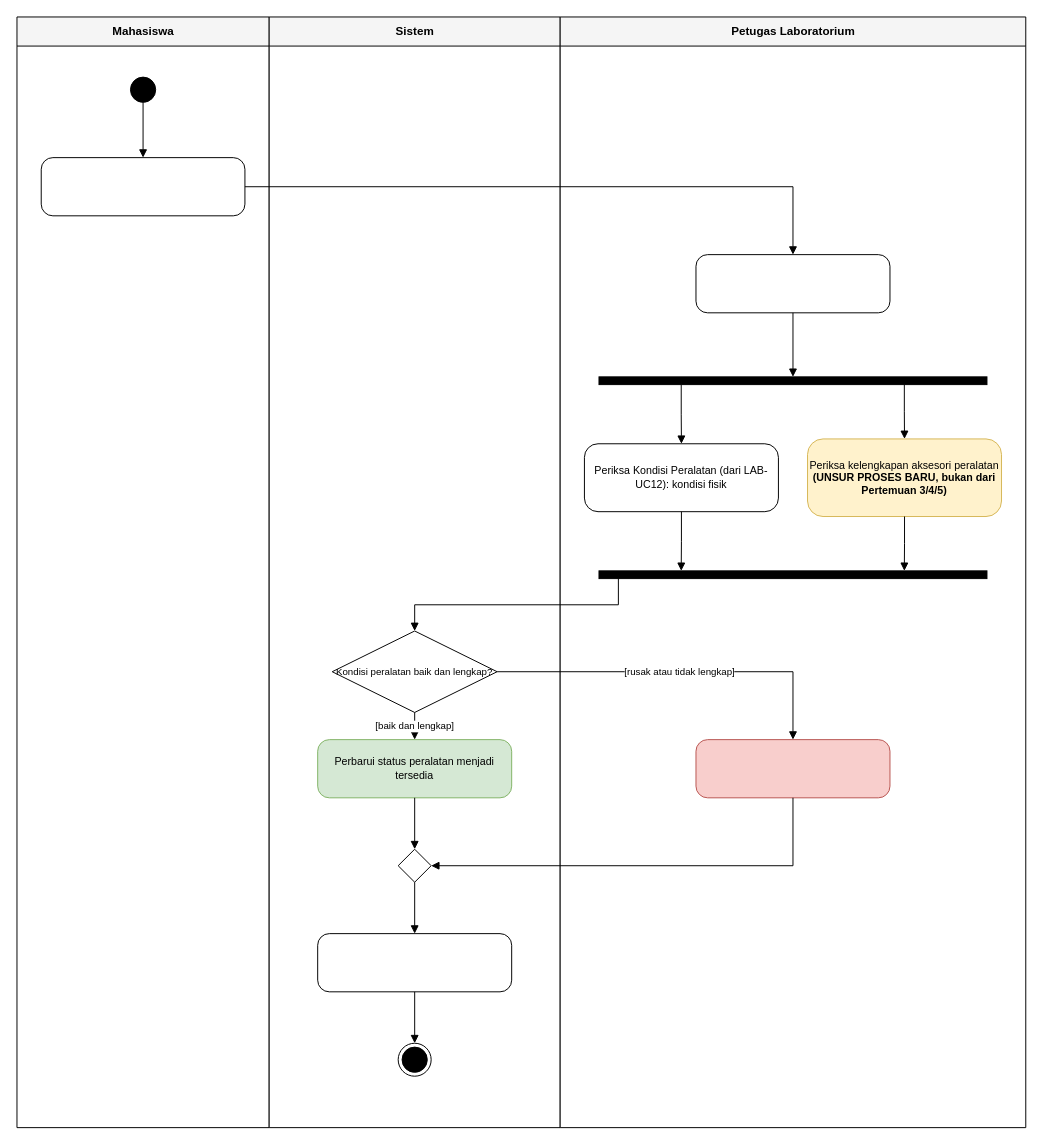
Image size: 1043x1145. Some labels were removed from this diagram. The centre of each missing label's shape, as x and y in pixels:
"Catat kerusakan atau kekurangan dan jadwalkan perbaikan" belongs at point 792,768.
"Catat Pengembalian Peralatan (LAB-UC11)" belongs at point 792,283.
"Menutup transaksi peminjaman" belongs at point 414,962.
"Menyerahkan peralatan yang dipinjam" belongs at point 142,186.
